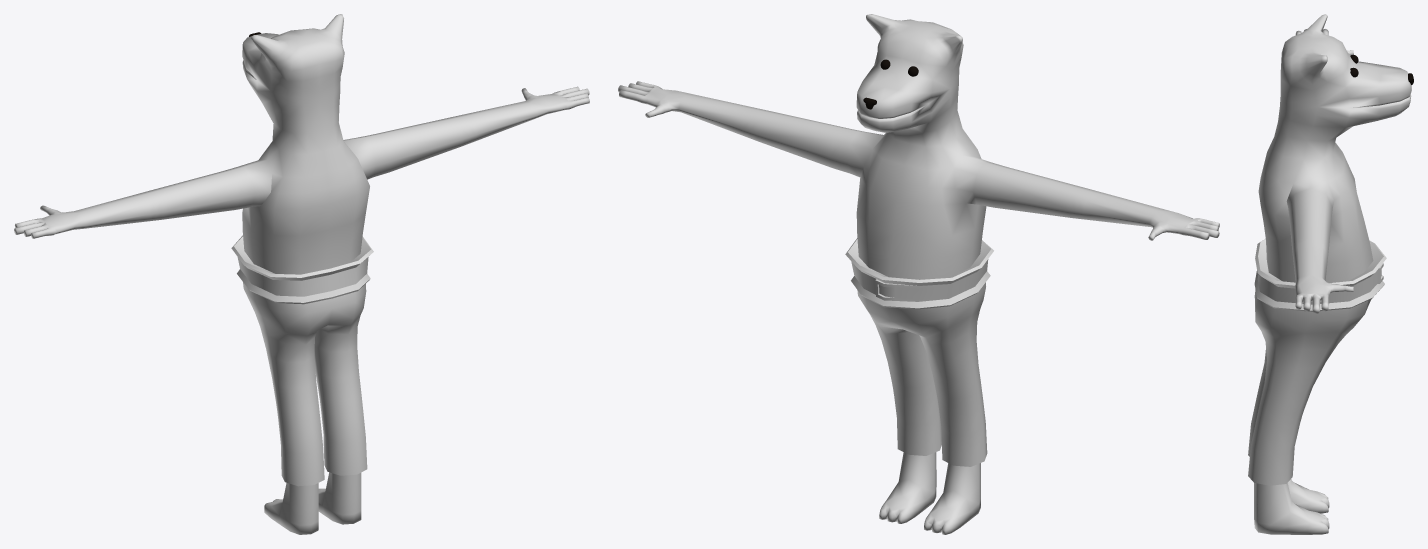
File: DOG.fbx
3 renders of one model, left to right at view 1: azimuth 30°, elevation 25°; view 2: azimuth 150°, elevation 25°; view 3: azimuth 270°, elevation 25°, orthographic. The views are drawn at different scales.
Parts seen in each view (by area): view 1: Cube; view 2: Cube; view 3: Cube.
Boxes of the visible parts, <box> form: Cube: <box>14,14,589,534</box>; Cube: <box>618,14,1219,534</box>; Cube: <box>1248,14,1411,534</box>.
Bounding box in the file's own units: 1340 × 1072 × 334.
